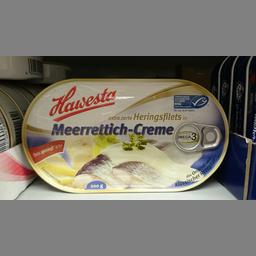fish: (20, 78, 228, 192)
